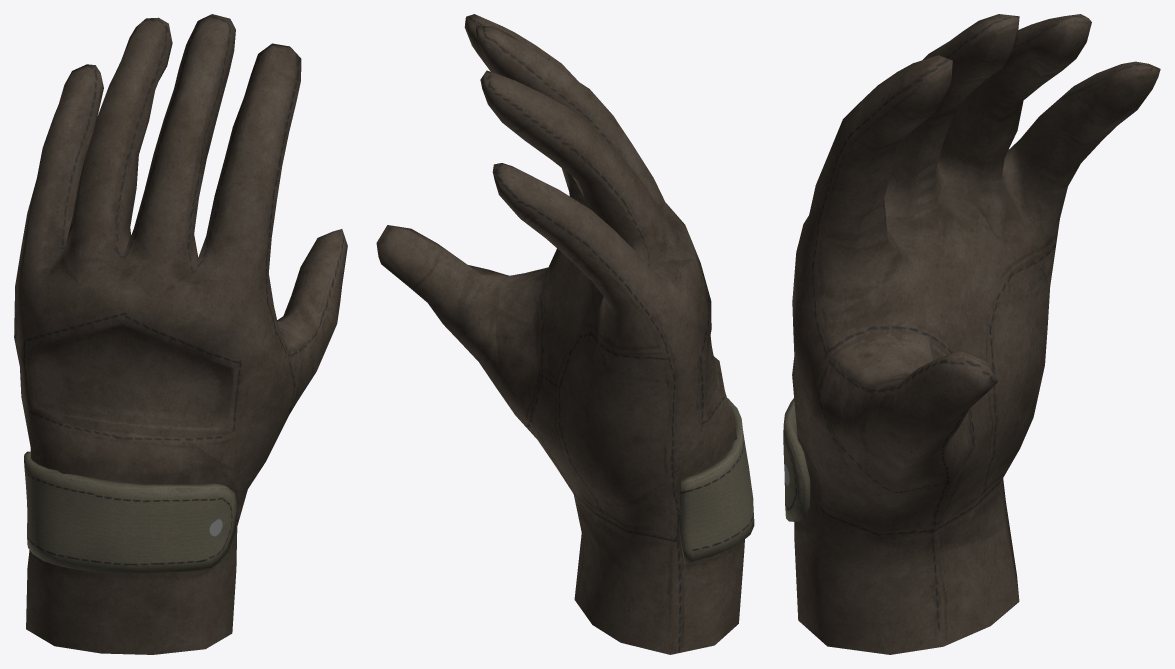
The model's file is gloves.glb.
3 renders of one model, left to right at view 1: azimuth 30°, elevation 25°; view 2: azimuth 150°, elevation 25°; view 3: azimuth 270°, elevation 25°, orthographic. The views are drawn at different scales.
Parts seen in each view (by area): view 1: Object_2; view 2: Object_2; view 3: Object_2.
Part boxes in pixels (x1=…): Object_2: x1=14, y1=14, x2=347, y2=654; Object_2: x1=376, y1=14, x2=754, y2=654; Object_2: x1=783, y1=14, x2=1160, y2=654.
Size of the model in its own units: 0.3861 by 0.6234 by 0.3203.
Materials: 1 (1 with a texture image).
